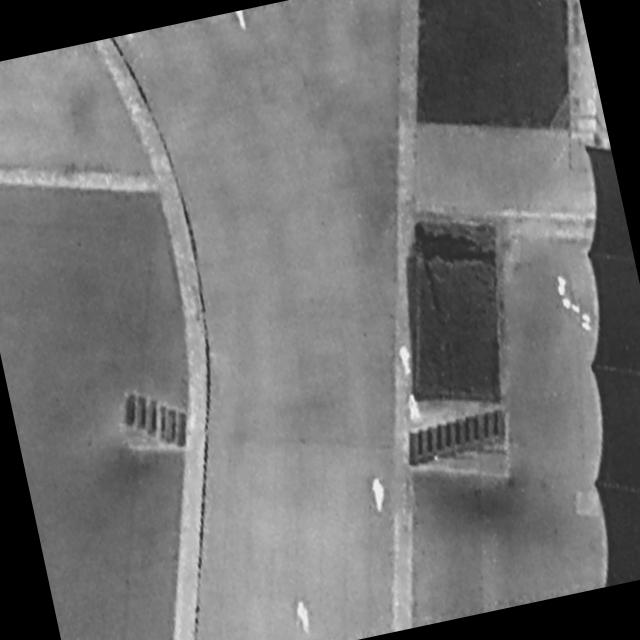person: (294, 598, 315, 639), (368, 476, 389, 514), (405, 392, 423, 424), (397, 344, 414, 377), (235, 11, 248, 33)
